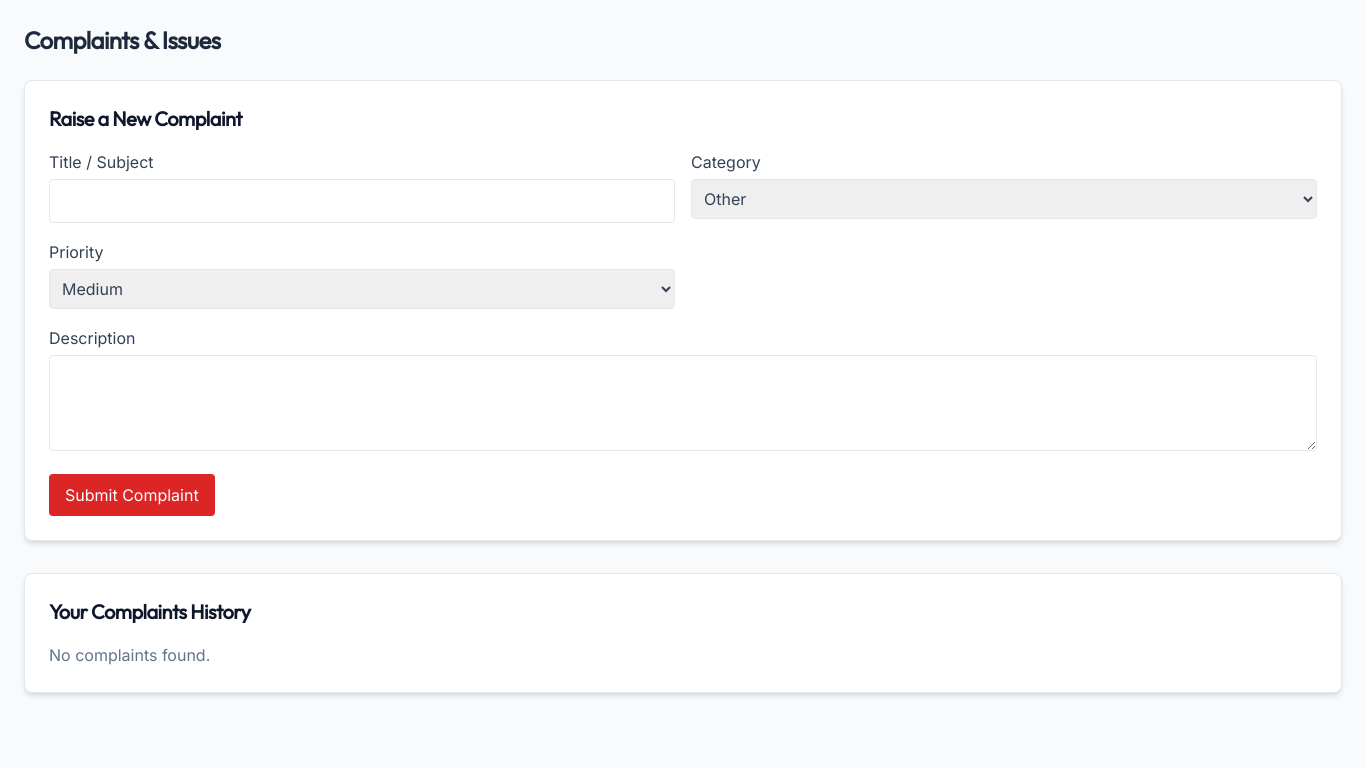
Test: Tenant Complaints Component › shows server error message when API throws an exception
Type "Network Test" into the field labelled "Title / Subject".
click(362, 201); type("Network Test")  # box [49,179,675,223]
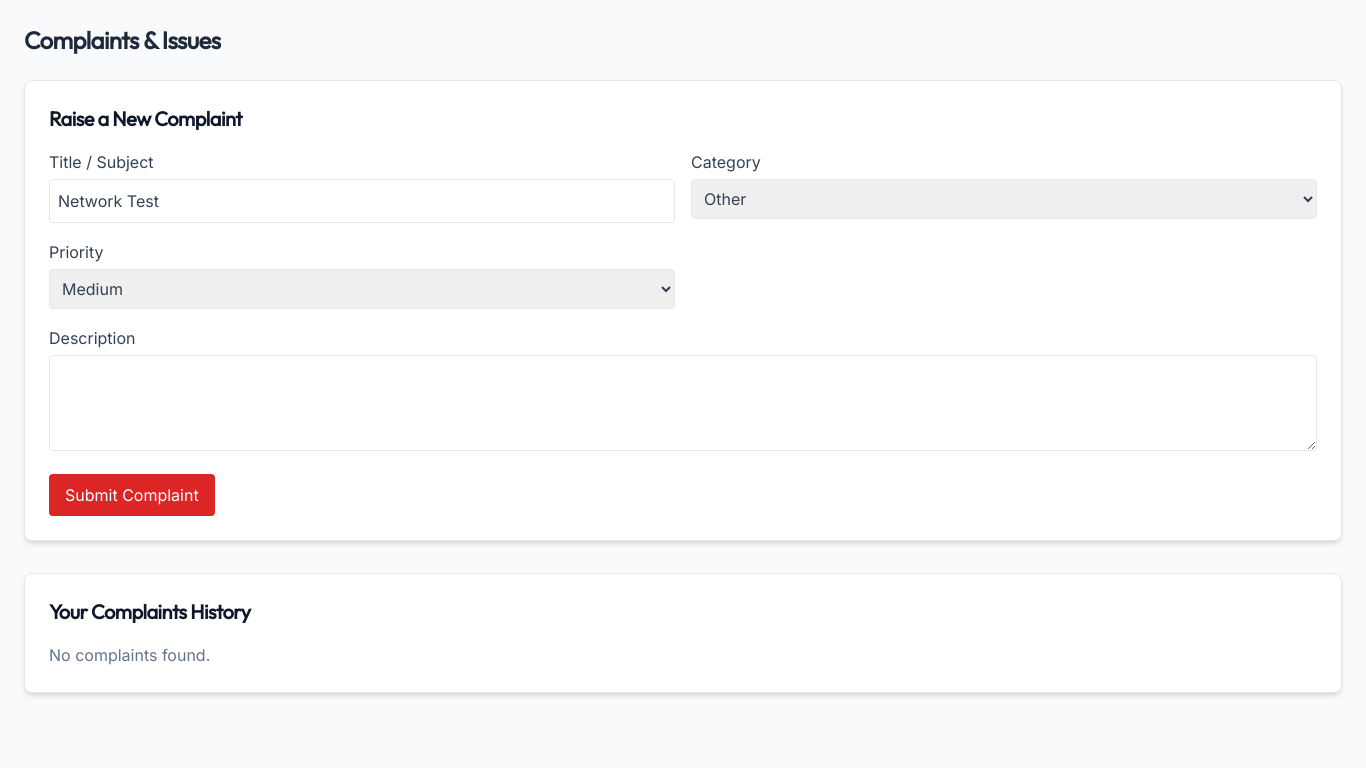
Type "Testing error." into the text box labelled "Description".
click(683, 403); type("Testing error.")  # box [49,355,1317,451]
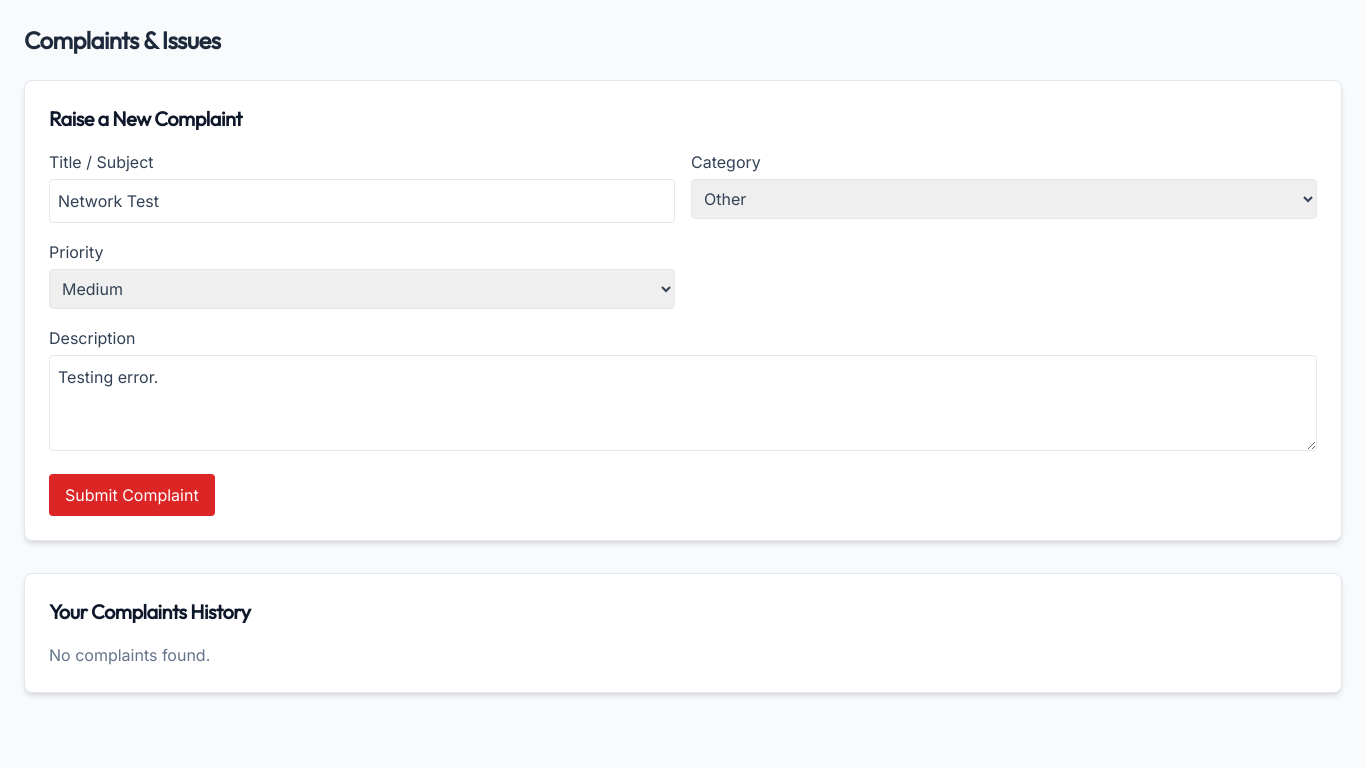
Click the button "Submit Complaint".
click(132, 495)  # box [49,474,215,516]
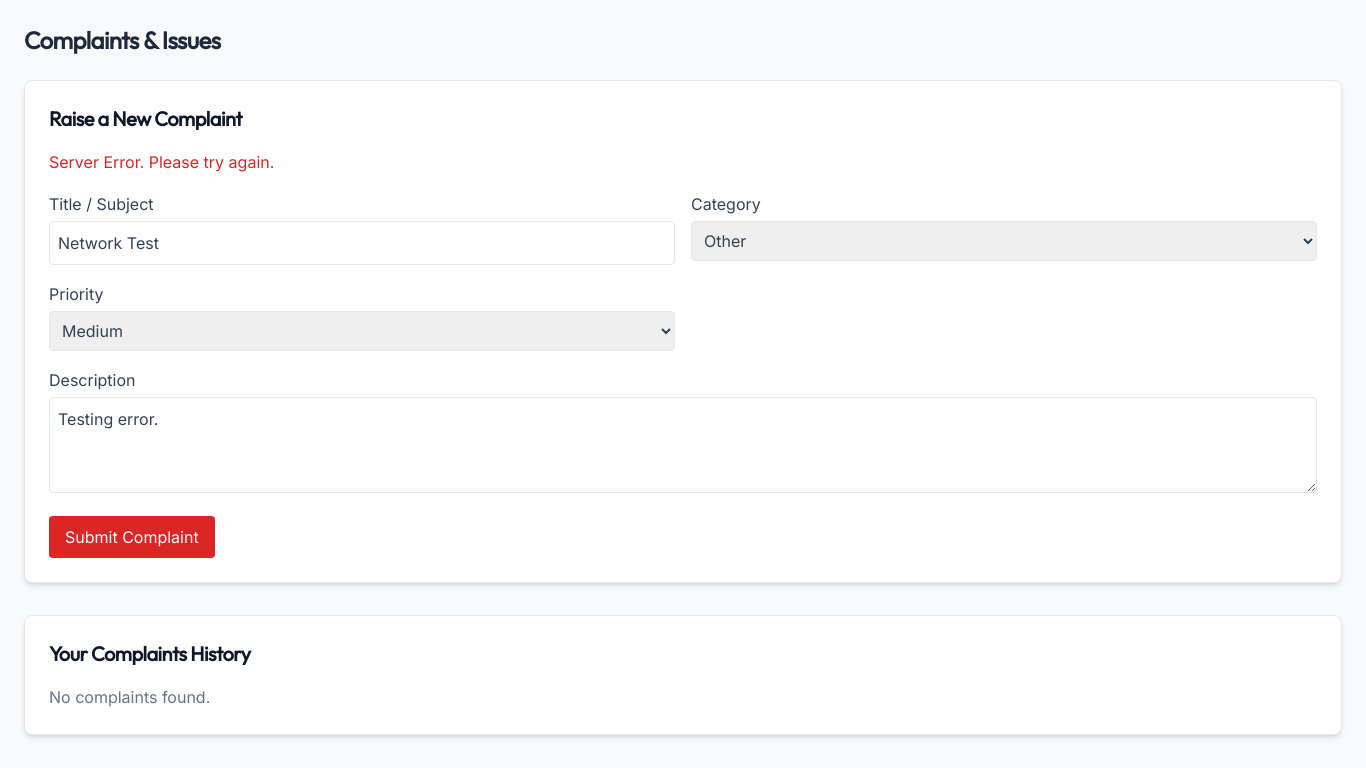
Now the text "Server Error. Please try again." is shown, box [49,152,274,172]
